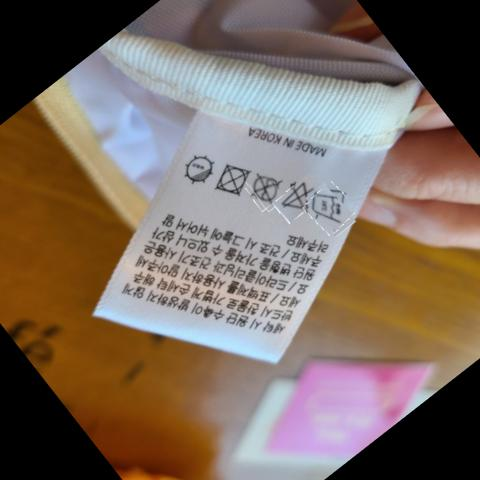DN_bleach: (284, 180, 314, 212)
DN_dry_clean: (252, 171, 284, 204)
DN_tumble_dry: (219, 161, 250, 196)
hand_wash: (312, 192, 351, 222)
shade_dry: (186, 152, 218, 185)
